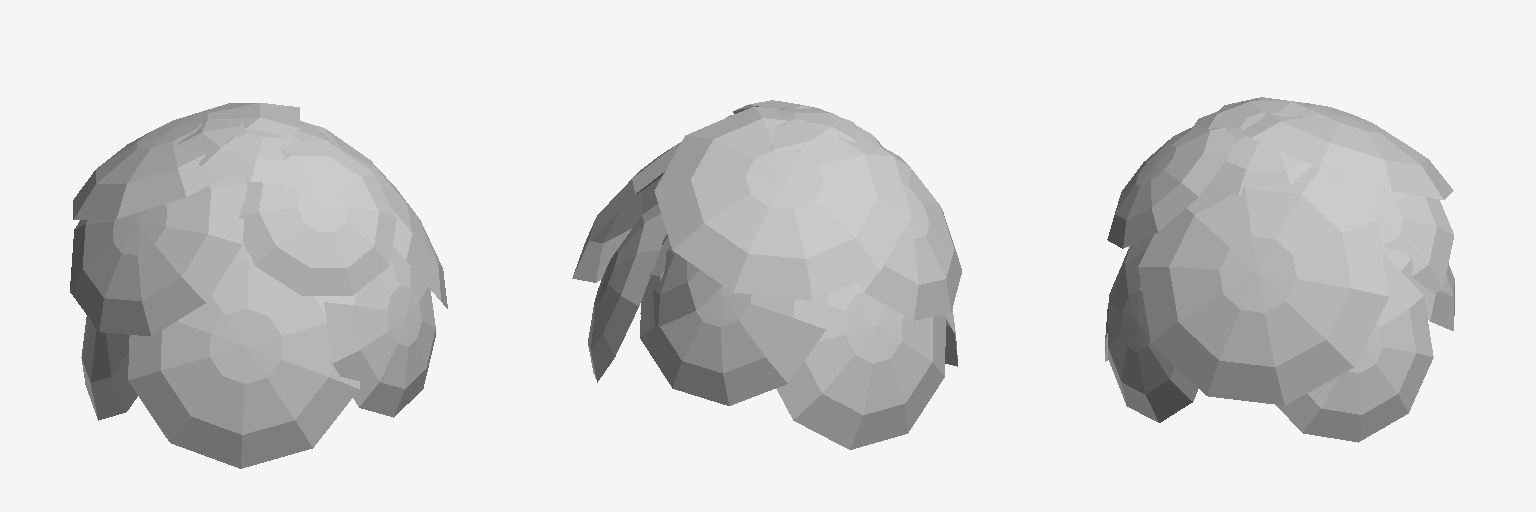
File: Leaves.obj
3 views of the same model, side by side, from view 1: azimuth 30°, elevation 25°; view 2: azimuth 150°, elevation 25°; view 3: azimuth 270°, elevation 25° (orthographic).
Visible parts, largest first — view 1: pSphere9, pSphere7, pSphere6, pSphere8, pSphere11, pSphere3, pSphere10, pSphere1; view 2: pSphere11, pSphere10, pSphere4, pSphere7, pSphere2, pSphere1, pSphere5, pSphere3, pSphere9, pSphere6; view 3: pSphere1, pSphere2, pSphere11, pSphere6, pSphere8, pSphere5, pSphere3, pSphere4.
Part boxes in pixels (x1,y1,x2,y2): pSphere9: (128,243,359,468); pSphere7: (70,175,246,336); pSphere6: (238,141,396,295); pSphere8: (324,246,435,417); pSphere11: (73,103,299,219); pSphere3: (176,118,350,182); pSphere10: (81,316,137,420); pSphere1: (300,121,447,308); pSphere11: (654,106,911,299); pSphere10: (776,282,945,449); pSphere4: (640,237,827,405); pSphere7: (856,141,961,320); pSphere2: (588,204,665,382); pSphere1: (572,142,680,282); pSphere5: (640,234,722,326); pSphere3: (726,107,857,160); pSphere9: (944,308,957,366); pSphere6: (733,100,882,146); pSphere1: (1138,166,1388,405); pSphere2: (1276,252,1433,442); pSphere11: (1219,97,1453,199); pSphere6: (1107,125,1234,248); pSphere8: (1108,235,1198,422); pSphere5: (1334,175,1453,293); pSphere3: (1193,101,1340,194); pSphere4: (1378,229,1454,330).
Size of the model in its own units: 10.45 by 8.04 by 9.32.